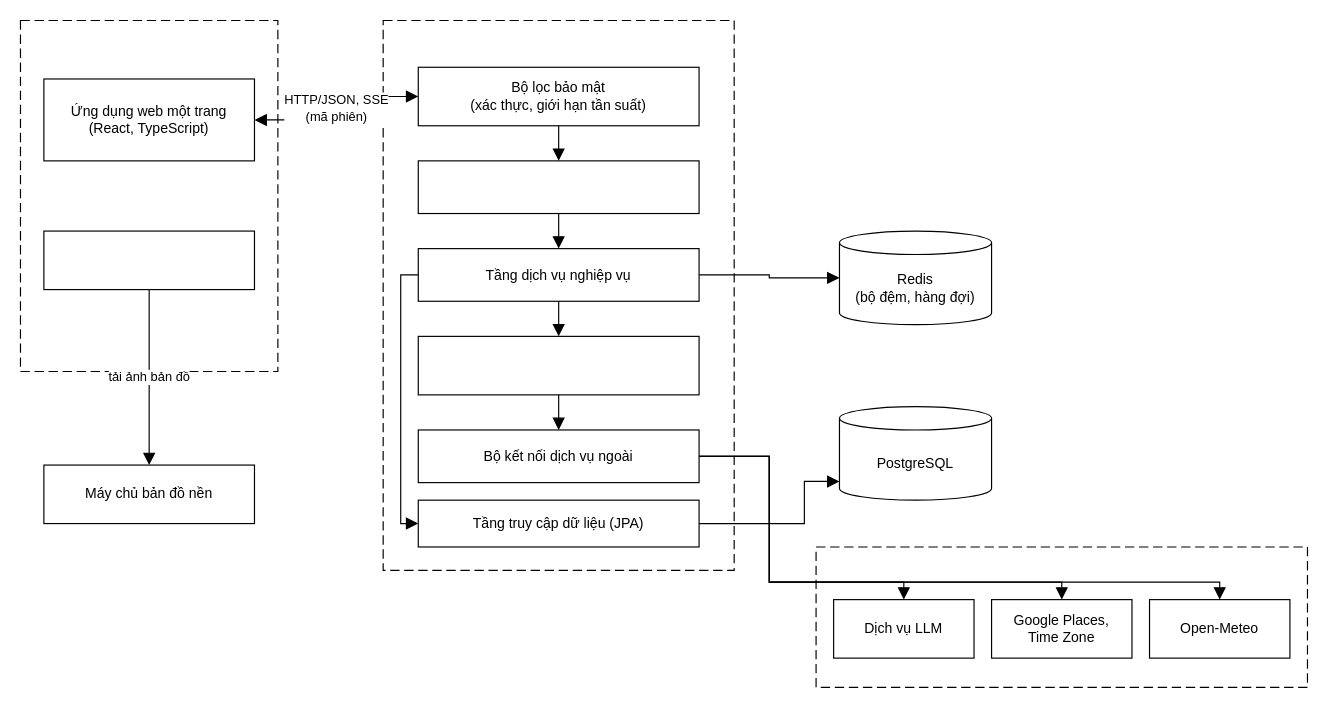
Image size: 1328x708. Some labels were removed from this diagram. Each missing label, with the box of its shape:
Bản đồ Leaflet: (43, 230, 254, 290)
Dịch vụ bên ngoài: (815, 546, 1307, 687)
Máy chủ ứng dụng (Spring Boot): (382, 19, 734, 570)
Máy khách: (19, 19, 278, 371)
Mô-đun tác tử AI (vòng lặp, công cụ, đề xuất): (417, 335, 699, 395)
Tầng điều khiển (REST API, SSE): (417, 160, 699, 214)
